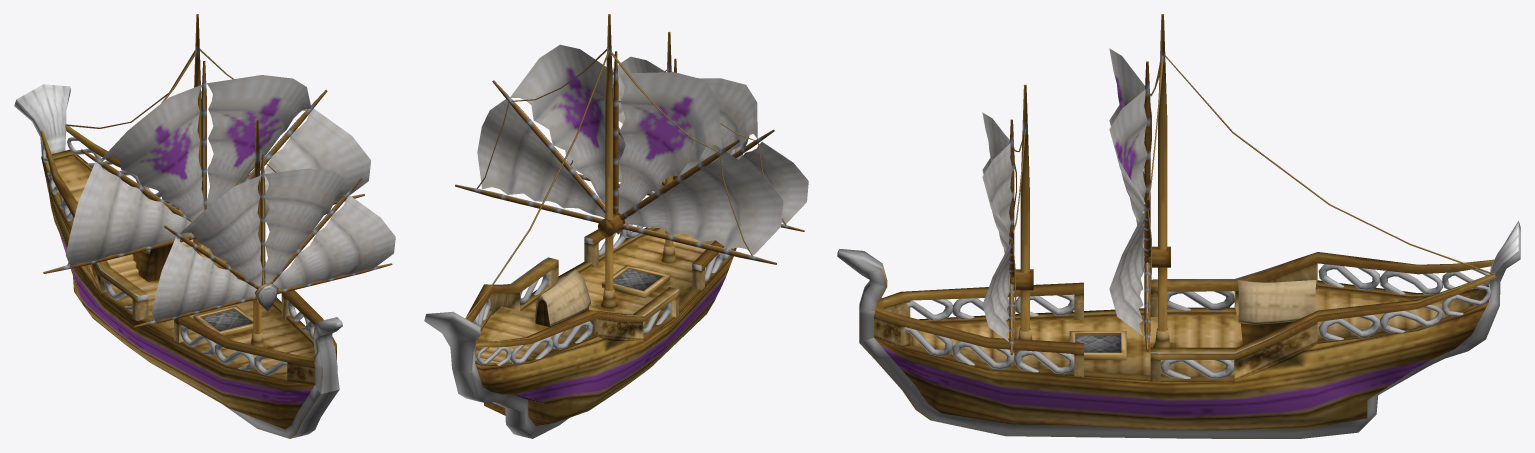
File: elven_transport.dae
The picture shows the model from 3 angles, left to right: view 1: azimuth 30°, elevation 25°; view 2: azimuth 150°, elevation 25°; view 3: azimuth 270°, elevation 25°; orthographic projection. The views are drawn at different scales.
Visible parts, largest first — view 1: ship; view 2: ship; view 3: ship.
Part boxes in pixels (x1,y1,x2,y2): ship: (14, 14, 395, 438); ship: (424, 14, 808, 438); ship: (837, 14, 1520, 438).
Size of the model in its own units: 19.5 by 31.34 by 21.15.
1 material, 1 textured.
